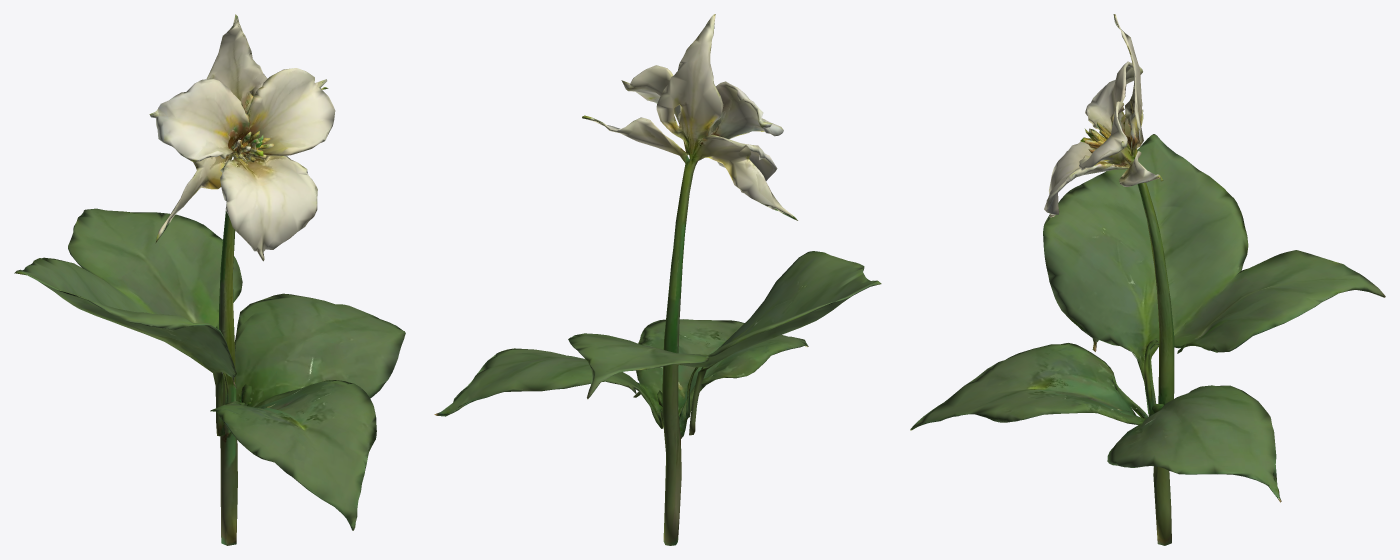
File: plant_trillium.glb
3 renders of one model, left to right at view 1: azimuth 30°, elevation 25°; view 2: azimuth 150°, elevation 25°; view 3: azimuth 270°, elevation 25°, orthographic. The views are drawn at different scales.
Visible parts, largest first — view 1: lo; view 2: lo; view 3: lo.
Boxes of the visible parts, bbox=[...] form: lo: bbox=[14, 14, 405, 545]; lo: bbox=[434, 14, 881, 545]; lo: bbox=[910, 14, 1385, 545].
Size of the model in its own units: 1.5 by 1.92 by 1.6.
Materials: 1 (1 with a texture image).
